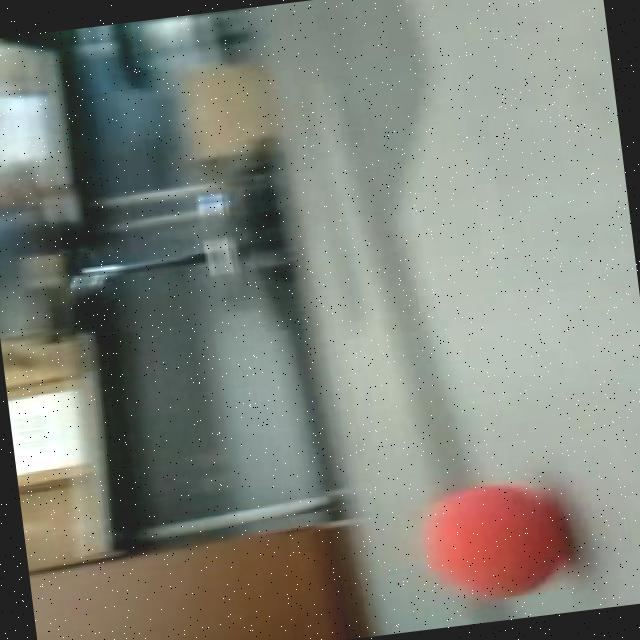ping-pong-ball: (416, 473, 579, 608)
